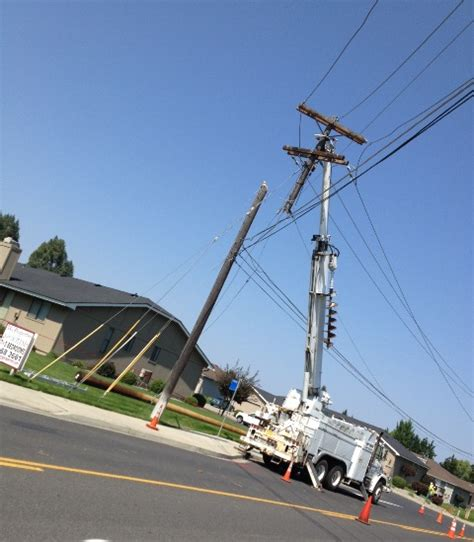pole: (145, 164, 274, 437), (277, 92, 366, 228)
